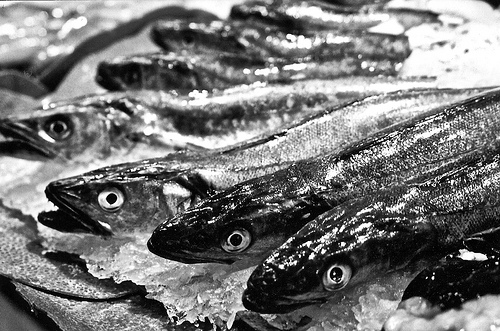fish: (38, 83, 499, 236), (147, 89, 499, 269), (240, 151, 499, 315), (0, 75, 439, 163), (380, 224, 499, 330), (230, 0, 470, 40)
